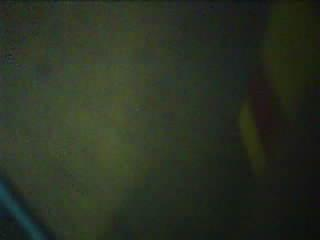lego: (238, 4, 320, 184)
